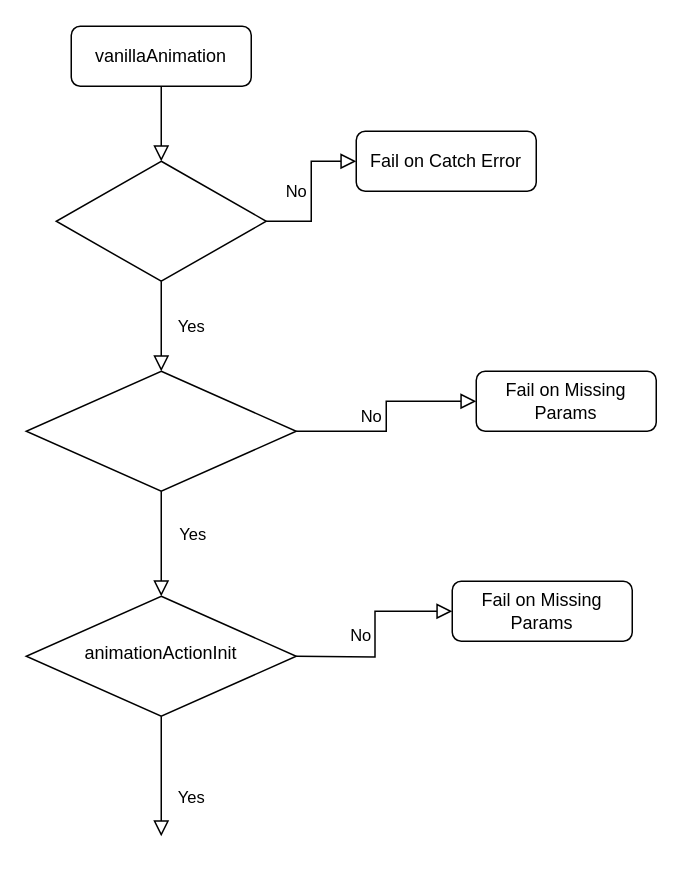
The diagram is 683 pixels wide and 878 high, and some of its shapes have lost their labels. The shapes that lost their labels are listed below. From the top down, each one's centre as x and y in pixels, then its label:
At point 160,220: "runVanillaAnimation".
At point 160,430: "processAnimationConfig".
